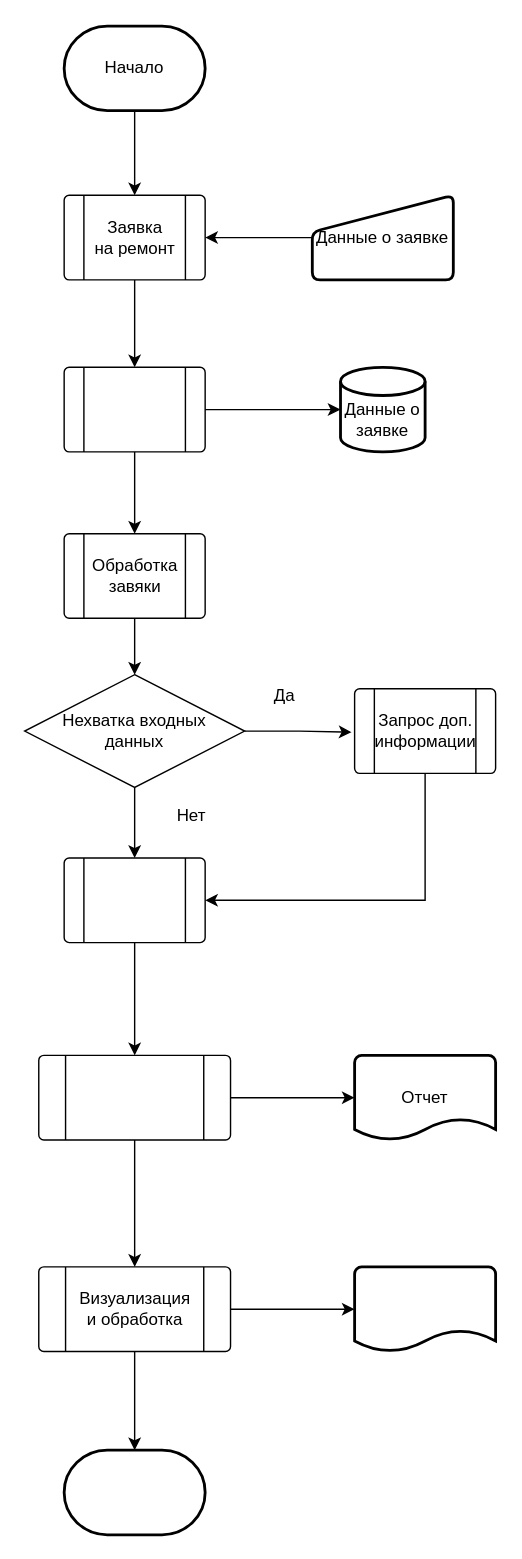
Image size: 522x1559. Some labels were removed from this diagram. The shapes that lost their labels are listed below. From the top down, each one's centre as x and y in pixels, then its label:
At point 134,409: "Запись заявки в хранилище".
At point 134,900: "Исполнение заявки".
At point 134,1097: "Предоставление информации".
At point 424,1308: "Анализ".
At point 134,1491: "Конец".
